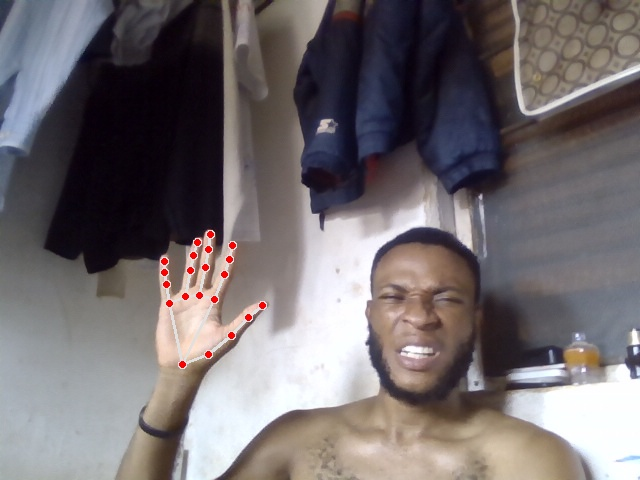no: (154, 226, 269, 382)
